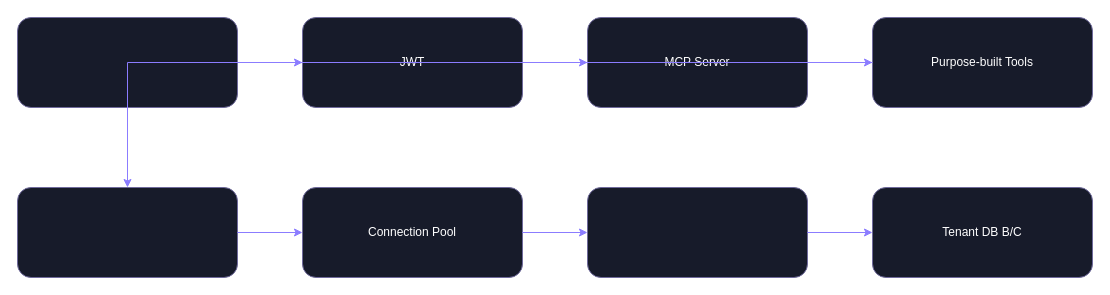
Image size: 1110x295. Some labels were removed from this diagram. The centre of each missing label's shape, as x and y in pixels:
AI Agents: (x=127, y=62)
Tenant DB A: (x=697, y=232)
Tenant Resolver: (x=127, y=232)
